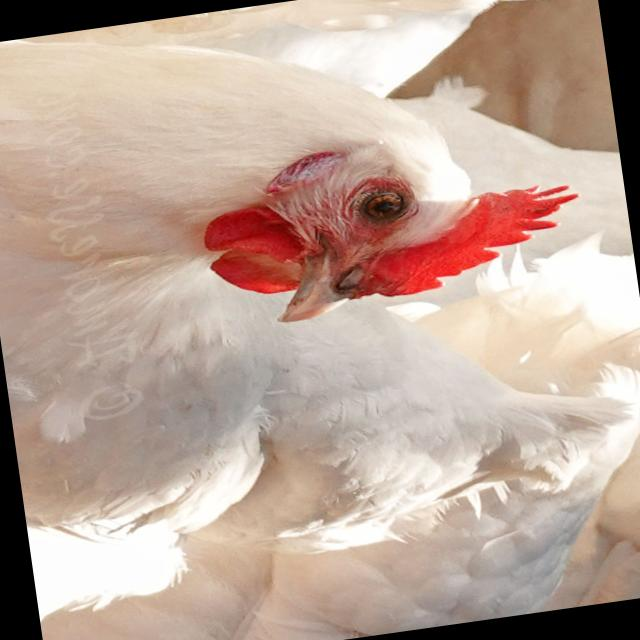Healthy: (0, 0, 592, 366)
